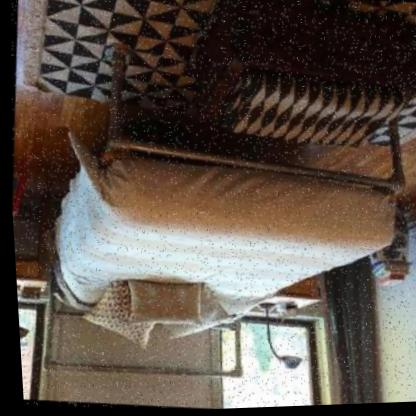Bed: (6, 0, 416, 412)
